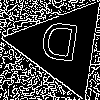D: (37, 21, 82, 72)
